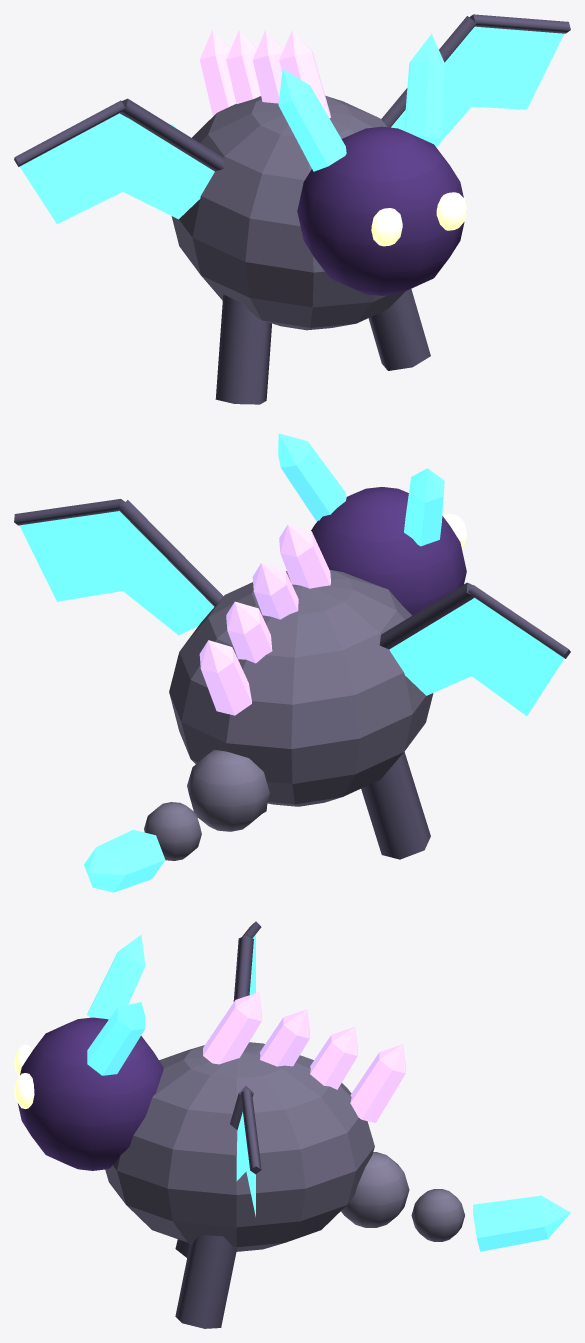
The model's file is monster_crystal_chimera.glb.
3 renders of one model, top to bottom at view 1: azimuth 30°, elevation 25°; view 2: azimuth 150°, elevation 25°; view 3: azimuth 270°, elevation 25°, orthographic. The views are drawn at different scales.
Parts seen in each view (by area): view 1: body_t0_palette, wingl_t0_crystal, wingr_t0_crystal, body_t0_crystal, body_t0_crystal_violet, legl_t0_palette, wingl_t0_palette, legr_t0_palette, wingr_t0_palette, body_t0_eye_glow; view 2: body_t0_palette, wingr_t0_crystal, wingl_t0_crystal, body_t0_crystal_violet, tail_t0_palette, body_t0_crystal, legl_t0_palette, tail_t0_crystal, wingr_t0_palette, wingl_t0_palette; view 3: body_t0_palette, body_t0_crystal_violet, tail_t0_palette, body_t0_crystal, legr_t0_palette, tail_t0_crystal, wingr_t0_palette, wingl_t0_palette, body_t0_eye_glow, wingr_t0_crystal.
Boxes of the visible parts, <box> form: body_t0_palette: <box>171,95,464,330</box>; wingl_t0_crystal: <box>20,113,214,223</box>; wingr_t0_crystal: <box>391,26,563,147</box>; body_t0_crystal: <box>278,34,444,171</box>; body_t0_crystal_violet: <box>199,29,330,118</box>; legl_t0_palette: <box>215,294,271,404</box>; wingl_t0_palette: <box>14,98,223,171</box>; legr_t0_palette: <box>368,289,430,370</box>; wingr_t0_palette: <box>381,14,570,127</box>; body_t0_eye_glow: <box>371,192,466,246</box>; body_t0_palette: <box>169,487,466,806</box>; wingr_t0_crystal: <box>19,511,213,635</box>; wingl_t0_crystal: <box>389,598,564,715</box>; body_t0_crystal_violet: <box>199,524,330,715</box>; tail_t0_palette: <box>144,749,269,860</box>; body_t0_crystal: <box>278,433,444,546</box>; legl_t0_palette: <box>361,752,430,859</box>; tail_t0_crystal: <box>84,829,165,892</box>; wingr_t0_palette: <box>14,499,223,606</box>; wingl_t0_palette: <box>379,582,570,658</box>; body_t0_palette: <box>18,1017,374,1251</box>; body_t0_crystal_violet: <box>203,992,405,1122</box>; tail_t0_palette: <box>341,1152,464,1241</box>; body_t0_crystal: <box>87,935,145,1075</box>; legr_t0_palette: <box>175,1234,237,1328</box>; tail_t0_crystal: <box>473,1195,570,1251</box>; wingr_t0_palette: <box>230,1086,261,1174</box>; wingl_t0_palette: <box>233,921,261,1001</box>; body_t0_eye_glow: <box>14,1044,34,1108</box>; wingr_t0_crystal: <box>236,1112,255,1216</box>.
Bounding box in the file's own units: 0.6038 × 0.3734 × 0.58.
